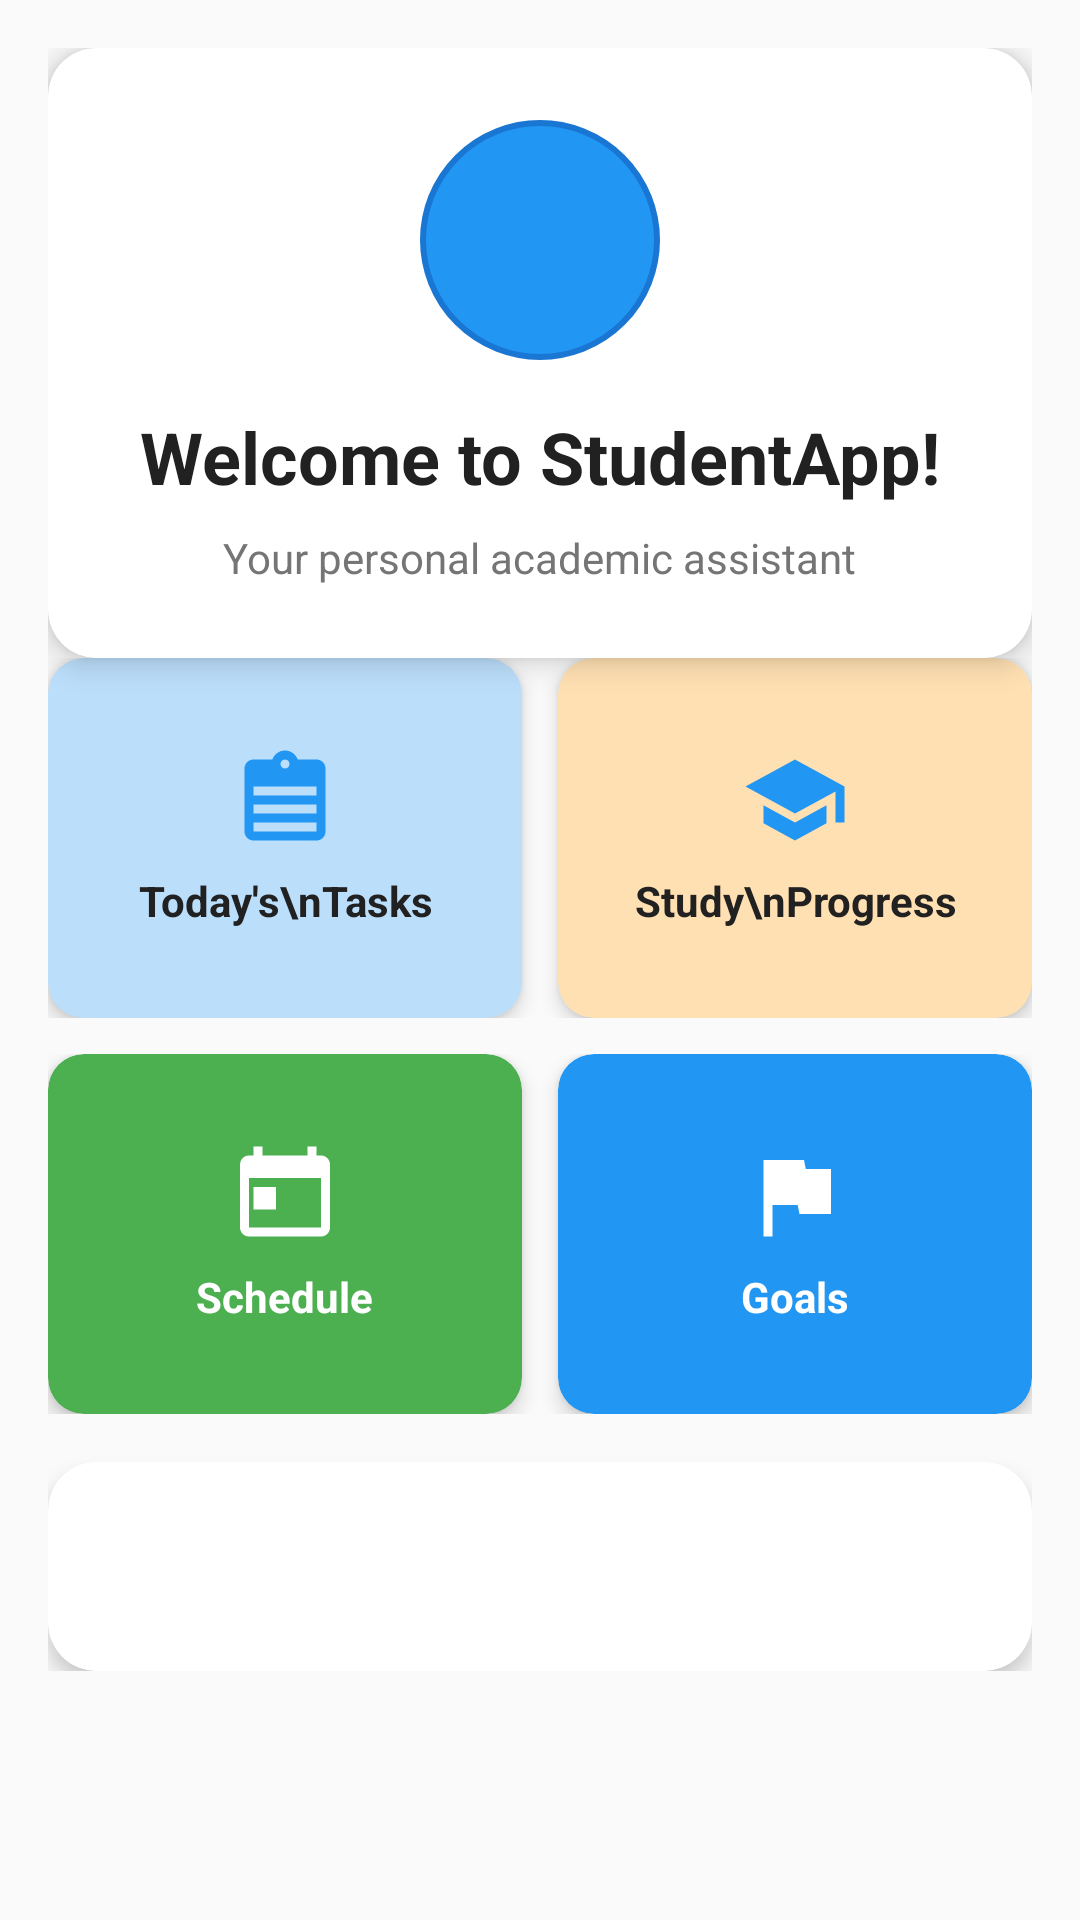

Icons on this 1080px x 1920px Android screen, each with its box as (x1, y1, x2, y2):
assignment: (244, 750, 326, 841)
calendar today: (240, 1146, 330, 1237)
flag: (763, 1160, 831, 1237)
school: (745, 759, 845, 841)
